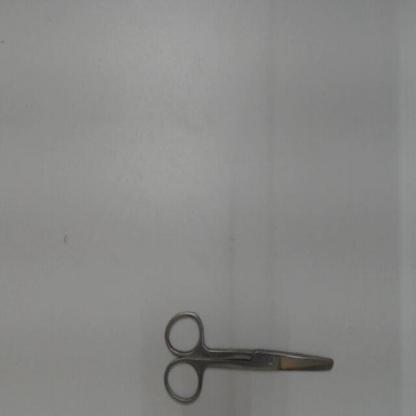Dressing Scissors: (156, 296, 348, 411)
